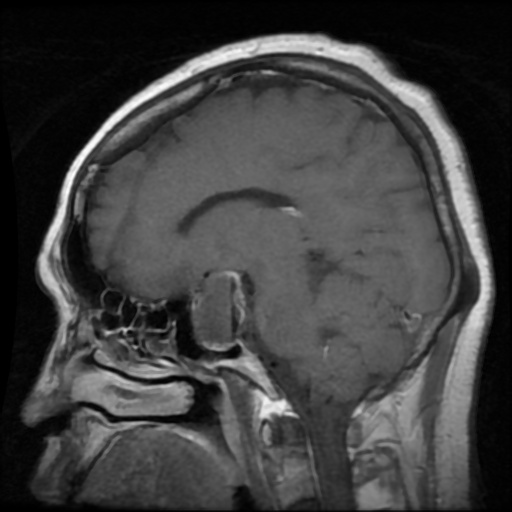pituitary: (194, 272, 244, 348)
